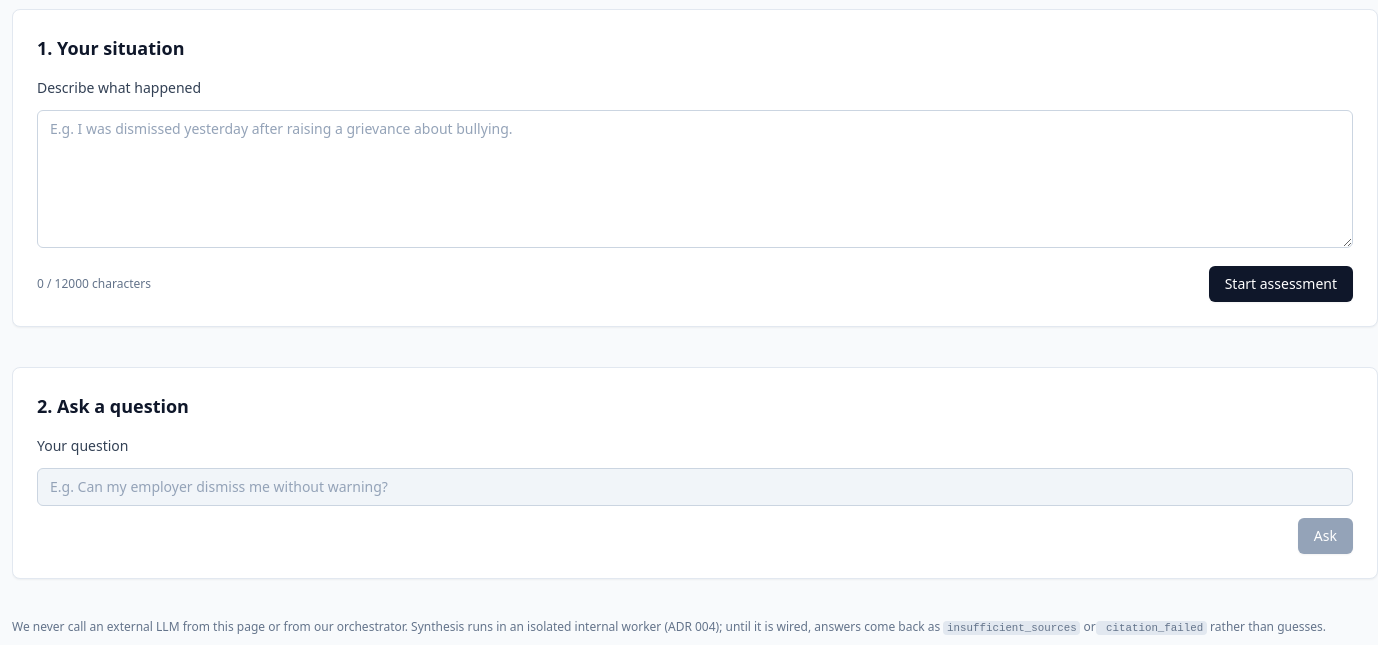
it: /case/assessment page › surfaces orchestrator response payload after asking a question
The image size is (1378, 645).
Step 1. Replace the text in the text box labelled "Describe what happened" with "I was dismissed without notice yesterday after raising a grievance about bullying at work last week." → [695, 179], box [37, 110, 1353, 248]
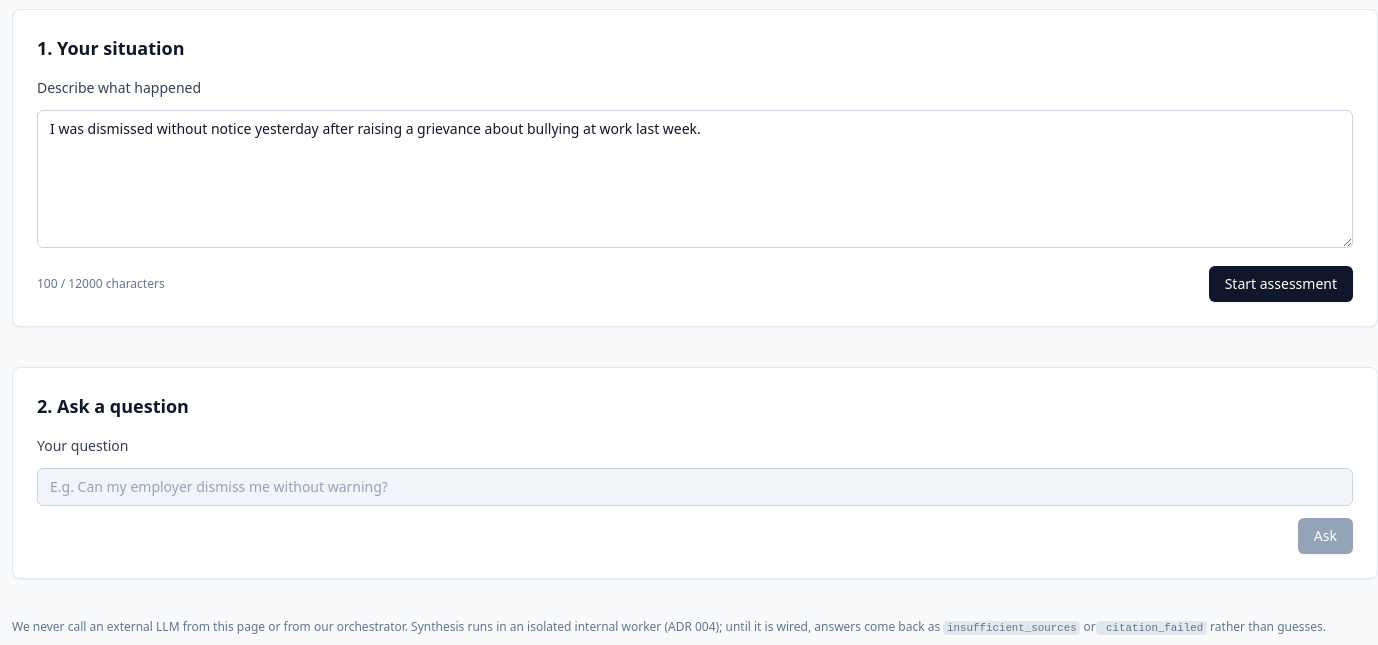
Step 2. Submit the form labelled "Describe what happened", box [37, 78, 1353, 302]
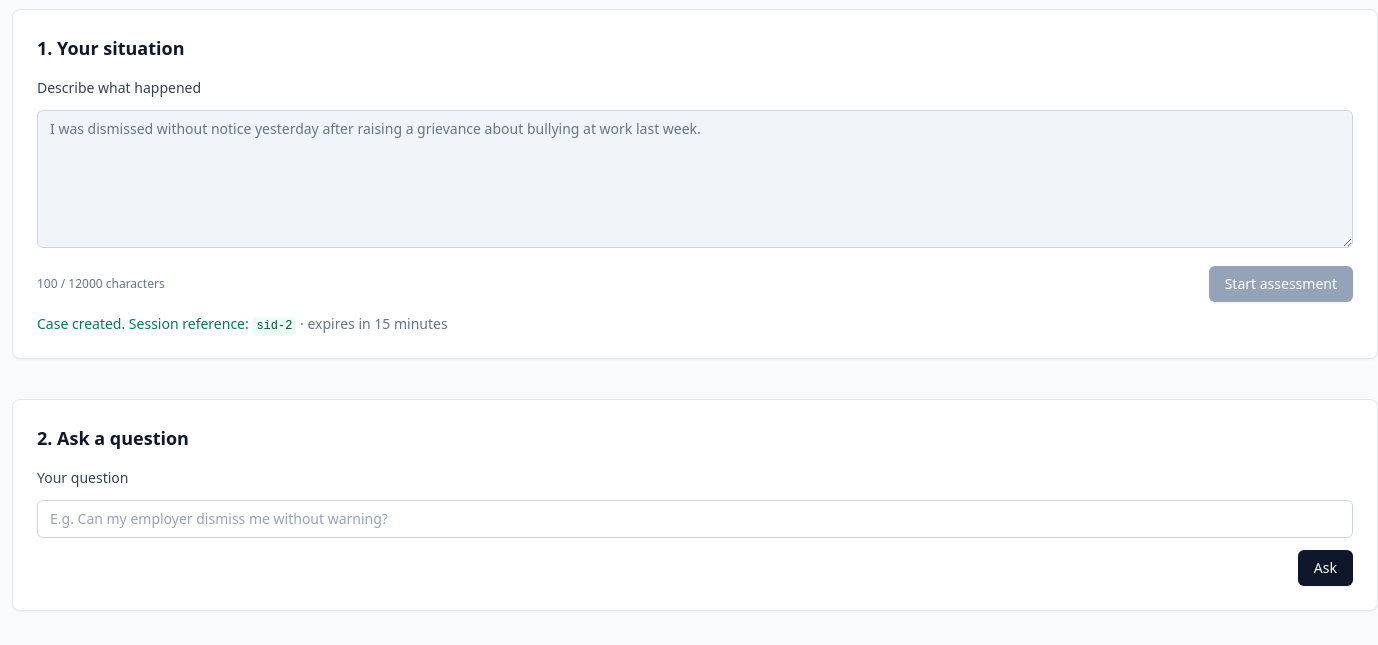
Now the text "Case created" is shown, box [37, 314, 249, 333]
Step 3. Type "Can my employer dismiss me without warning?" into the field labelled "Your question" → [695, 519], box [37, 500, 1353, 538]
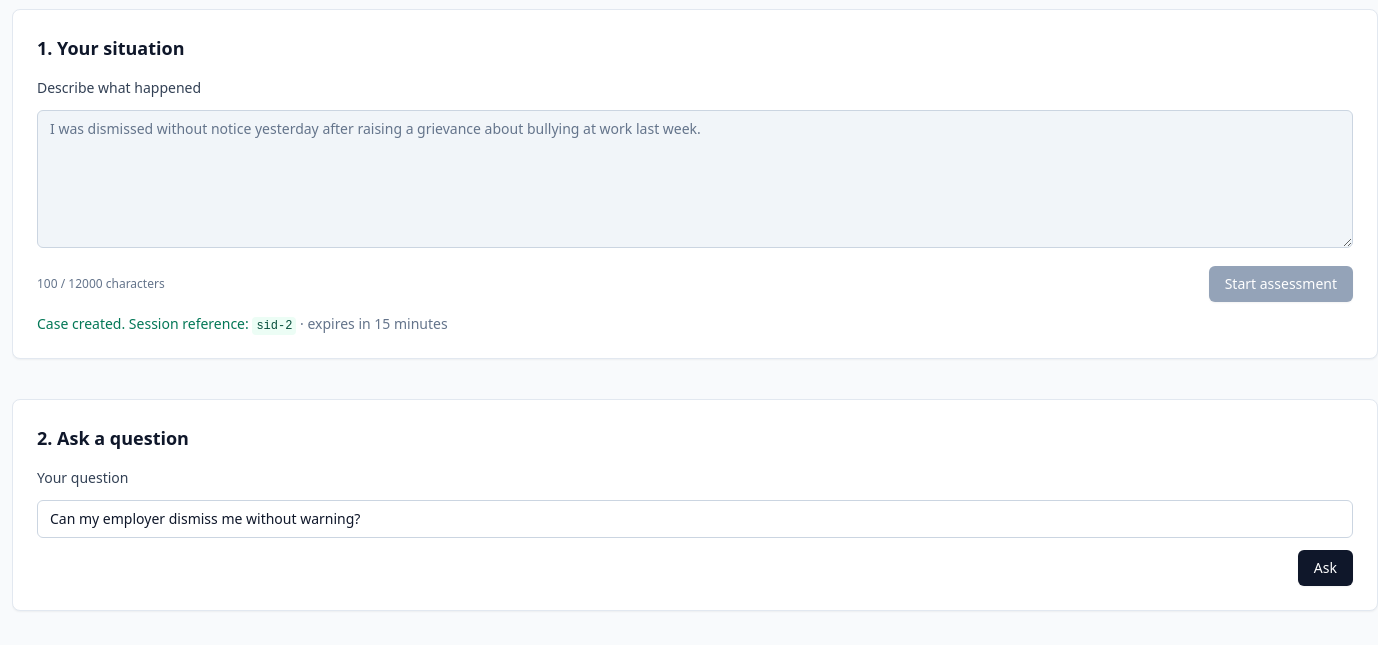
Step 4. Submit the form labelled "Your question Ask", box [37, 468, 1353, 586]
(page scrolled)
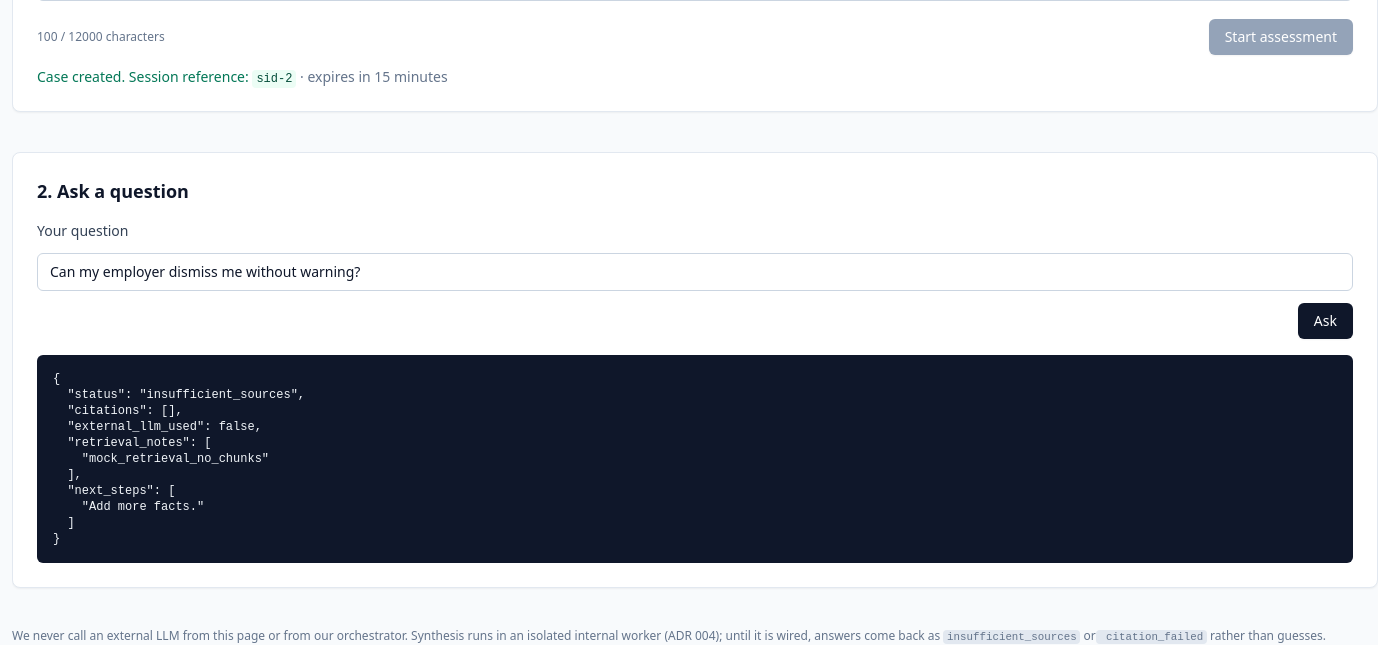
Now the text with test id "orchestrator-response" shows "insufficient_sources", box [53, 372, 305, 546]
Now the text with test id "orchestrator-response" shows "external_llm_used", box [53, 372, 305, 546]
Now the text with test id "orchestrator-response" shows "false", box [53, 372, 305, 546]
